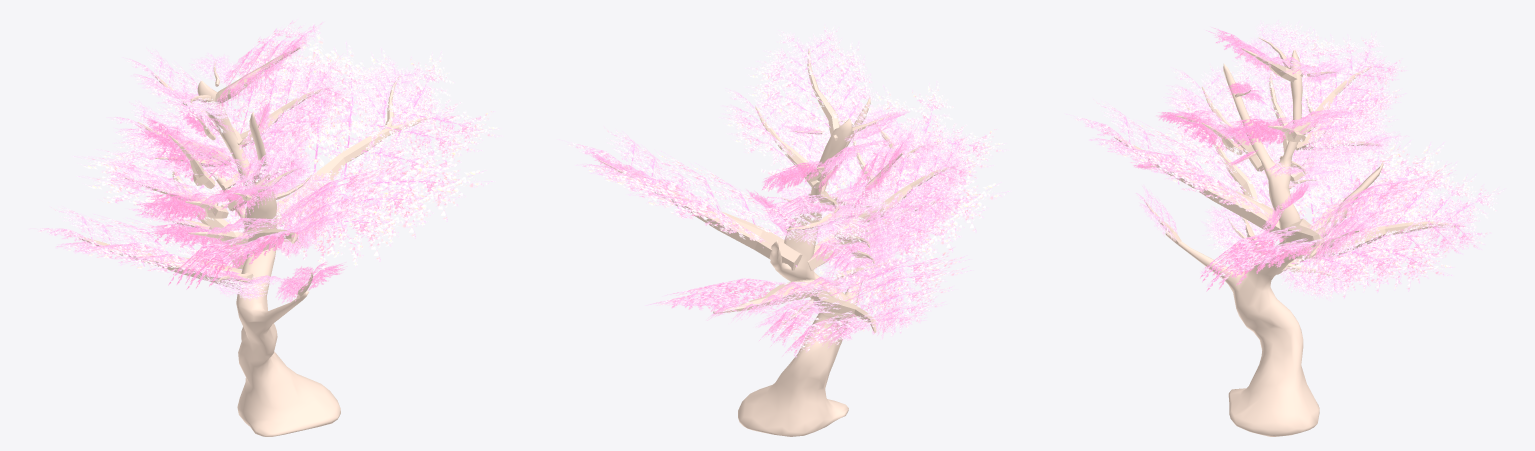
The model's file is Newesttree.gltf.
3 views of the same model, side by side, from view 1: azimuth 30°, elevation 25°; view 2: azimuth 150°, elevation 25°; view 3: azimuth 270°, elevation 25° (orthographic). The views are drawn at different scales.
Parts seen in each view (by area): view 1: TexturesCom_Branches0038_1_masked_S.007, Cube, TexturesCom_Branches0038_1_masked_S.016, TexturesCom_Branches0038_1_masked_S.028, TexturesCom_Branches0038_1_masked_S.013, TexturesCom_Branches0038_1_masked_S.014, TexturesCom_Branches0038_1_masked_S.010, TexturesCom_Branches0038_1_masked_S.018, TexturesCom_Branches0038_1_masked_S.011, TexturesCom_Branches0038_1_masked_S.032, TexturesCom_Branches0038_1_masked_S.005, TexturesCom_Branches0038_1_masked_S.002 (+15 smaller); view 2: TexturesCom_Branches0038_1_masked_S.028, Cube, TexturesCom_Branches0038_1_masked_S.007, TexturesCom_Branches0038_1_masked_S.013, TexturesCom_Branches0038_1_masked_S.010, TexturesCom_Branches0038_1_masked_S.004, TexturesCom_Branches0038_1_masked_S.016, TexturesCom_Branches0038_1_masked_S.014, TexturesCom_Branches0038_1_masked_S.019, TexturesCom_Branches0038_1_masked_S.026, TexturesCom_Branches0038_1_masked_S.021, TexturesCom_Branches0038_1_masked_S.032 (+12 smaller); view 3: TexturesCom_Branches0038_1_masked_S.014, Cube, TexturesCom_Branches0038_1_masked_S.005, TexturesCom_Branches0038_1_masked_S.007, TexturesCom_Branches0038_1_masked_S.028, TexturesCom_Branches0038_1_masked_S.013, TexturesCom_Branches0038_1_masked_S.004, TexturesCom_Branches0038_1_masked_S.019, TexturesCom_Branches0038_1_masked_S.018, TexturesCom_Branches0038_1_masked_S.032, TexturesCom_Branches0038_1_masked_S.030, TexturesCom_Branches0038_1_masked_S.016 (+15 smaller).
Part boxes in pixels (x1,y1,x2,y2): TexturesCom_Branches0038_1_masked_S.007: (221,23,503,270); Cube: (193,80,340,436); TexturesCom_Branches0038_1_masked_S.016: (226,41,352,166); TexturesCom_Branches0038_1_masked_S.028: (168,154,413,289); TexturesCom_Branches0038_1_masked_S.013: (28,206,241,288); TexturesCom_Branches0038_1_masked_S.014: (71,128,293,269); TexturesCom_Branches0038_1_masked_S.010: (215,18,324,115); TexturesCom_Branches0038_1_masked_S.018: (135,115,254,188); TexturesCom_Branches0038_1_masked_S.011: (344,55,433,134); TexturesCom_Branches0038_1_masked_S.032: (107,100,230,165); TexturesCom_Branches0038_1_masked_S.005: (122,49,242,144); TexturesCom_Branches0038_1_masked_S.002: (227,132,308,221); TexturesCom_Branches0038_1_masked_S.028: (754,74,1011,291); Cube: (738,97,870,436); TexturesCom_Branches0038_1_masked_S.007: (557,126,802,270); TexturesCom_Branches0038_1_masked_S.013: (759,246,971,357); TexturesCom_Branches0038_1_masked_S.010: (744,23,878,135); TexturesCom_Branches0038_1_masked_S.004: (858,120,975,240); TexturesCom_Branches0038_1_masked_S.016: (718,83,825,188); TexturesCom_Branches0038_1_masked_S.014: (646,276,873,323); TexturesCom_Branches0038_1_masked_S.019: (845,162,963,263); TexturesCom_Branches0038_1_masked_S.026: (758,200,872,245); TexturesCom_Branches0038_1_masked_S.021: (811,201,913,264); TexturesCom_Branches0038_1_masked_S.032: (781,182,899,217); TexturesCom_Branches0038_1_masked_S.014: (1293,139,1505,298); Cube: (1165,50,1383,436); TexturesCom_Branches0038_1_masked_S.005: (1272,28,1407,152); TexturesCom_Branches0038_1_masked_S.007: (1200,163,1455,291); TexturesCom_Branches0038_1_masked_S.028: (1066,99,1281,238); TexturesCom_Branches0038_1_masked_S.013: (1229,133,1449,293); TexturesCom_Branches0038_1_masked_S.004: (1161,63,1279,171); TexturesCom_Branches0038_1_masked_S.019: (1157,103,1275,202); TexturesCom_Branches0038_1_masked_S.018: (1213,41,1319,152); TexturesCom_Branches0038_1_masked_S.032: (1280,77,1400,159); TexturesCom_Branches0038_1_masked_S.030: (1235,20,1321,81); TexturesCom_Branches0038_1_masked_S.016: (1218,109,1359,145).
Size of the model in its own units: 7.09 by 6.41 by 6.9.
Materials: 2 (1 with a texture image).
